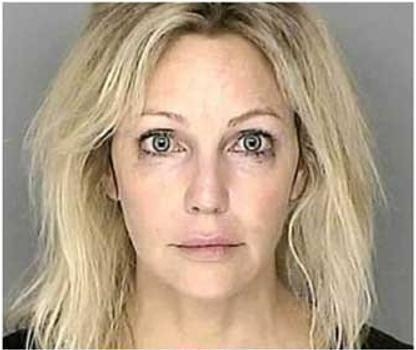Drunk: (123, 44, 287, 291)
